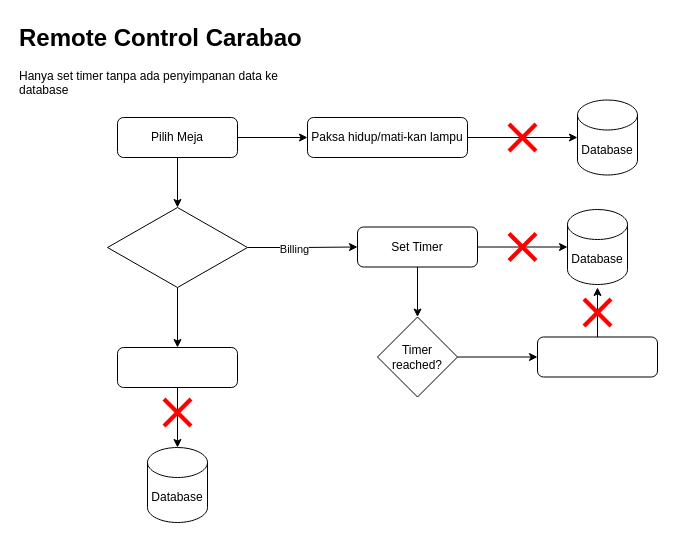
This 675x540 diagram has some shape labels left out. Each missing label, with the centre of its shape:
Matikan Meja: the point at 597,356
Open Table/Billing?: the point at 177,247
Request Selesai: the point at 177,367
